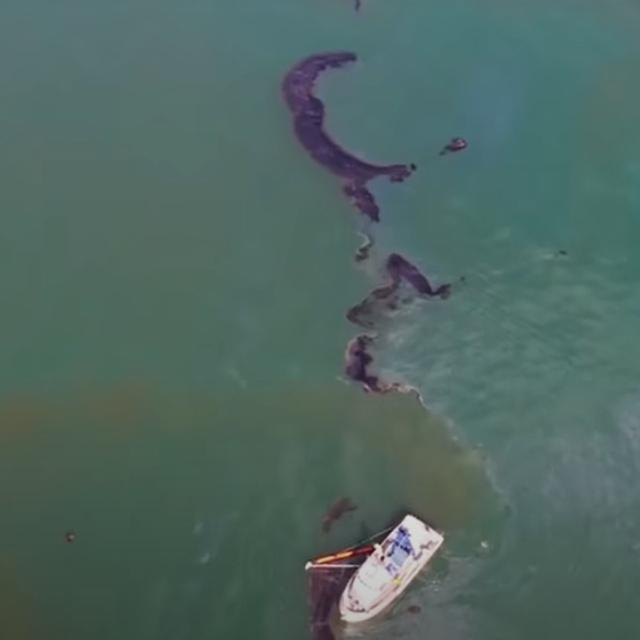truecolor: (281, 51, 416, 222), (306, 527, 392, 640), (346, 254, 451, 328), (344, 334, 421, 404), (321, 499, 357, 534), (439, 137, 467, 156), (412, 163, 417, 170)
